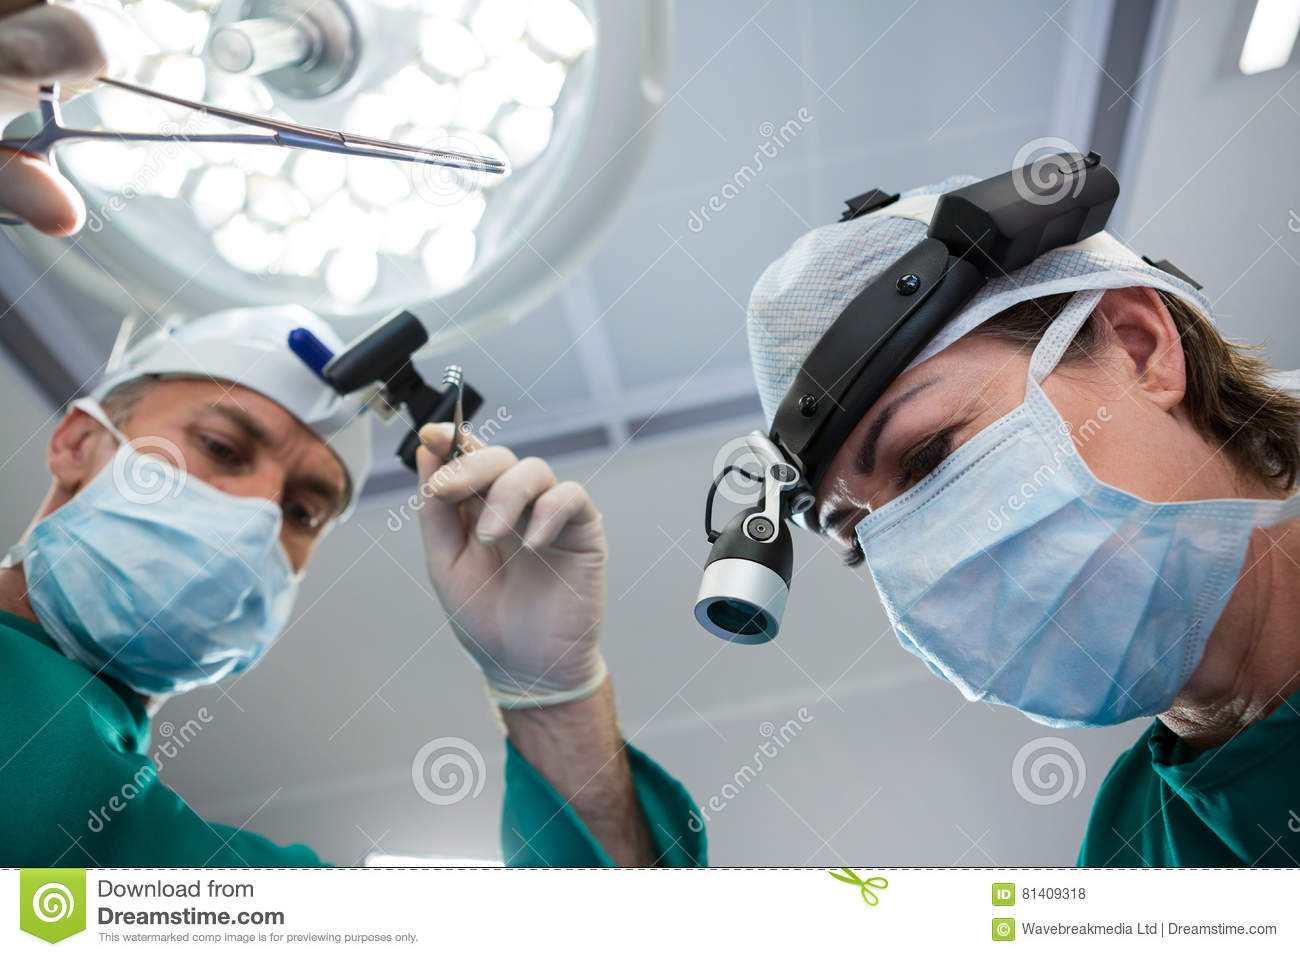mask: (842, 448, 1240, 732), (45, 473, 310, 714)
